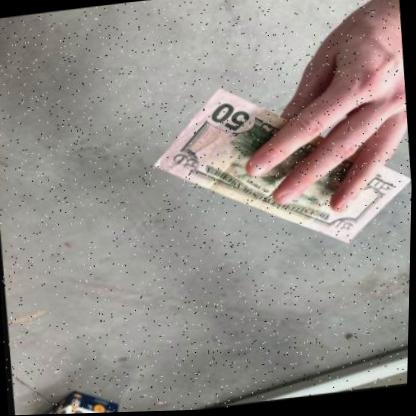dollar_back: (149, 87, 411, 246)
